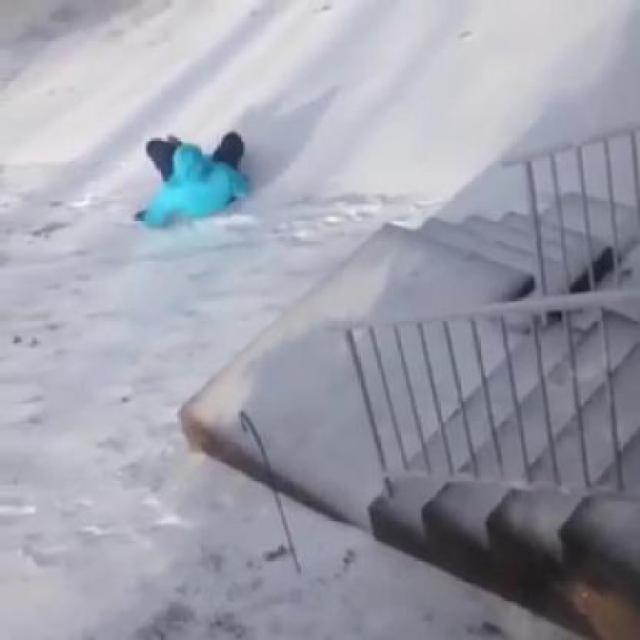fall: (131, 128, 247, 223)
